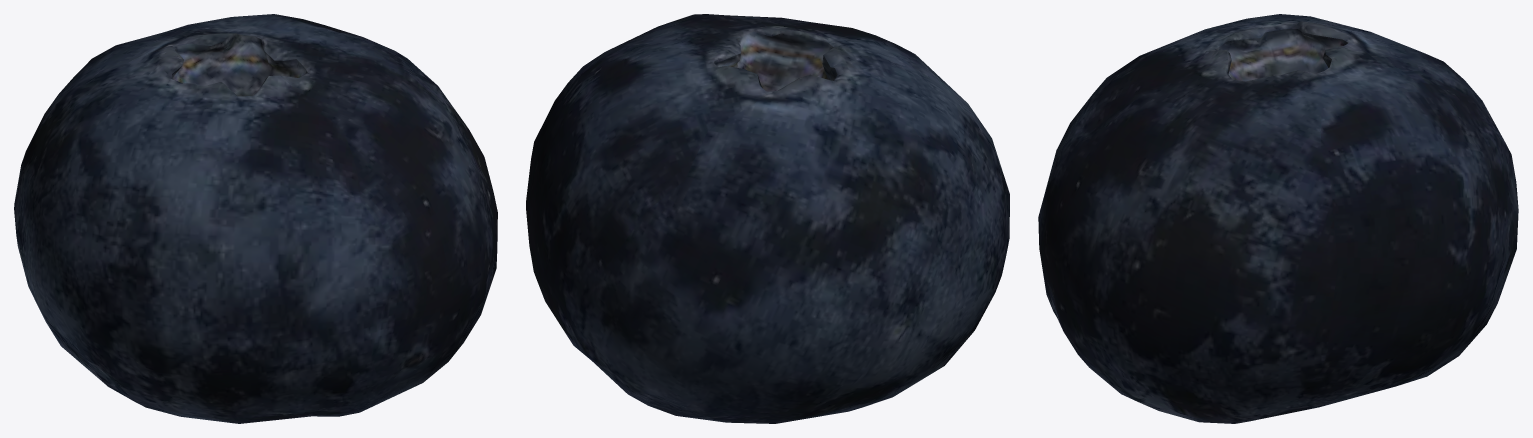
Rendered from blaubeere.glb.
3 views of the same model, side by side, from view 1: azimuth 30°, elevation 25°; view 2: azimuth 150°, elevation 25°; view 3: azimuth 270°, elevation 25° (orthographic). The views are drawn at different scales.
Parts seen in each view (by area): view 1: Object_2; view 2: Object_2; view 3: Object_2.
Boxes of the visible parts, box(x1,y1,x2,y2) form: Object_2: box(14, 14, 497, 423); Object_2: box(526, 14, 1009, 423); Object_2: box(1038, 14, 1518, 423).
Size of the model in its own units: 0.0215 by 0.0162 by 0.0216.
Materials: 1 (1 with a texture image).
